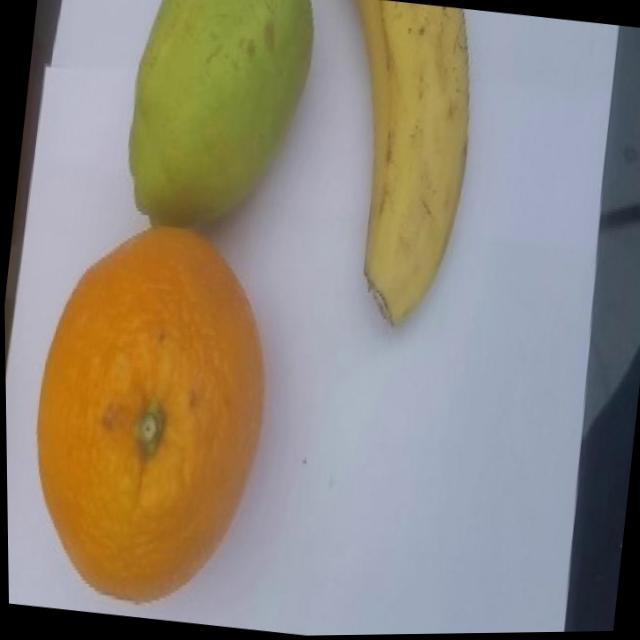Banana: (313, 0, 486, 338)
Orange: (11, 211, 286, 619)
